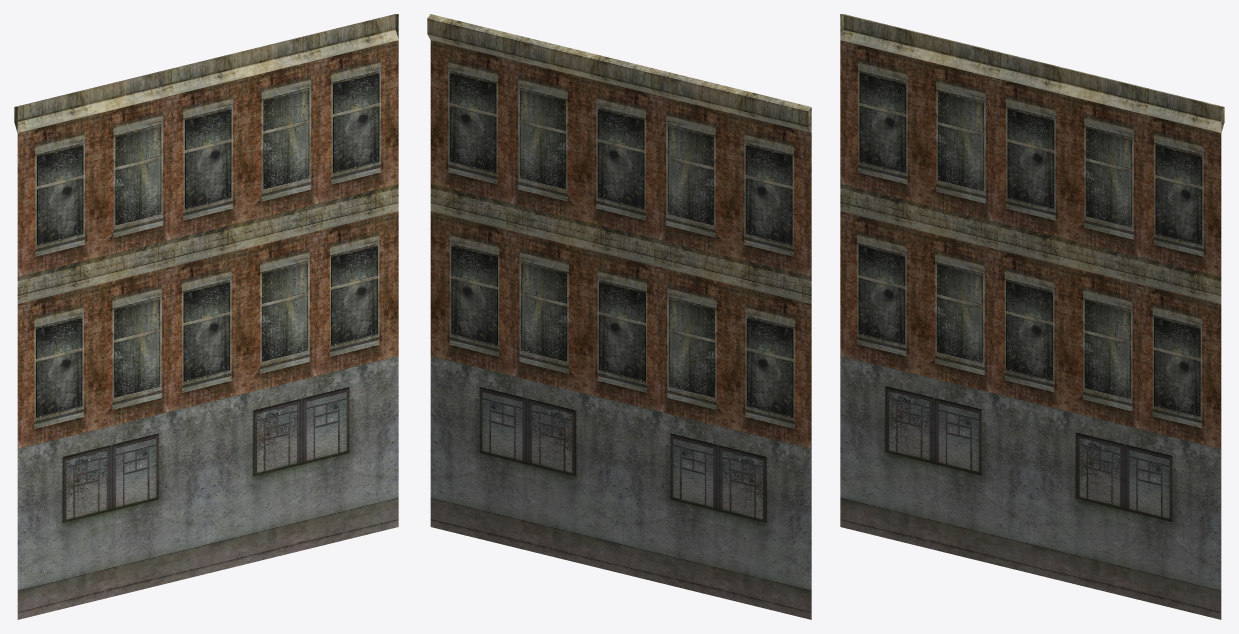
Rendered from Blocks_House_06.fbx.
The picture shows the model from 3 angles, left to right: view 1: azimuth 30°, elevation 25°; view 2: azimuth 150°, elevation 25°; view 3: azimuth 330°, elevation 25°; orthographic projection.
Visible parts, largest first — view 1: Blocks_House_06_C, Blocks_House_06_A, Blocks_House_06_B; view 2: Blocks_House_06_C, Blocks_House_06_A, Blocks_House_06_B; view 3: Blocks_House_06_C, Blocks_House_06_A, Blocks_House_06_B.
Boxes of the visible parts, bbox=[...] form: Blocks_House_06_C: bbox=[14, 14, 398, 277]; Blocks_House_06_A: bbox=[17, 356, 398, 619]; Blocks_House_06_B: bbox=[17, 185, 398, 448]; Blocks_House_06_C: bbox=[427, 14, 811, 277]; Blocks_House_06_A: bbox=[430, 356, 811, 619]; Blocks_House_06_B: bbox=[430, 185, 811, 448]; Blocks_House_06_C: bbox=[840, 14, 1224, 277]; Blocks_House_06_A: bbox=[840, 356, 1221, 619]; Blocks_House_06_B: bbox=[840, 185, 1221, 448].
Bounding box in the file's own units: 700 × 900 × 10.39.
